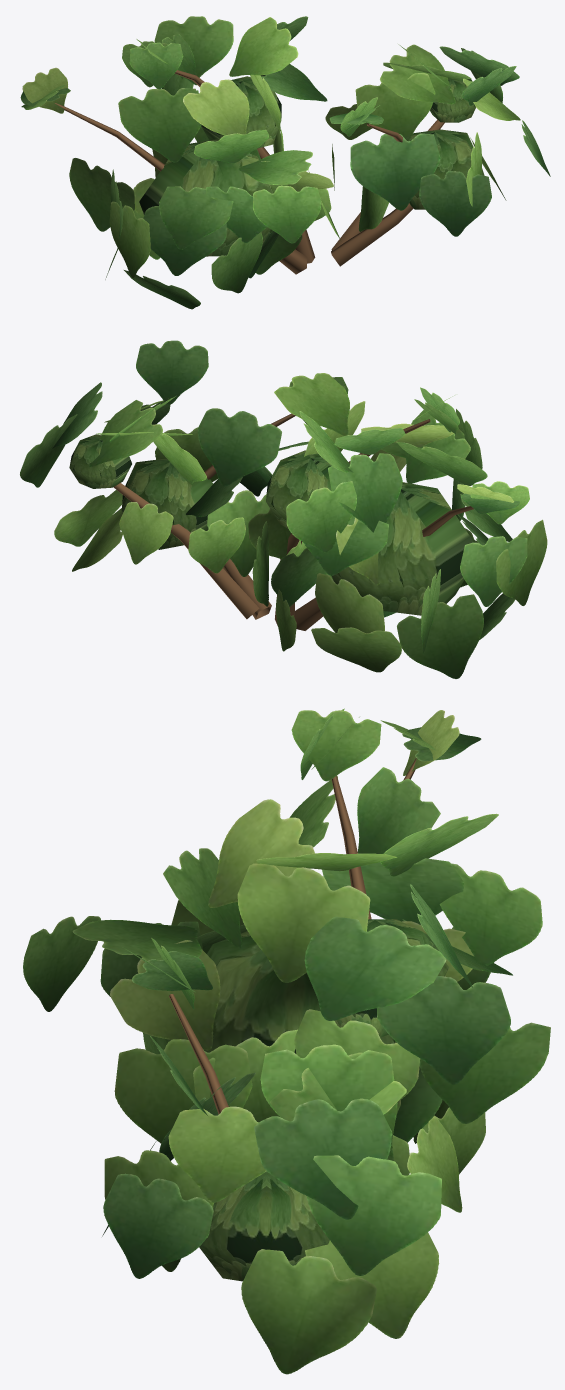
Rendered from shrub-f.glb.
The picture shows the model from 3 angles, top to bottom: view 1: azimuth 30°, elevation 25°; view 2: azimuth 150°, elevation 25°; view 3: azimuth 270°, elevation 25°; orthographic projection. The views are drawn at different scales.
Visible parts, largest first — view 1: Leaves, Twigs; view 2: Leaves, Twigs; view 3: Leaves, Twigs.
Boxes of the visible parts, x1,y1,x2,y2 form: Leaves: [20, 16, 550, 309]; Twigs: [55, 70, 444, 274]; Leaves: [20, 340, 547, 678]; Twigs: [113, 413, 473, 630]; Leaves: [23, 708, 550, 1374]; Twigs: [169, 758, 416, 1114].
Bounding box in the file's own units: 1.8 × 0.9524 × 1.09.
Materials: 2 (1 with a texture image).
